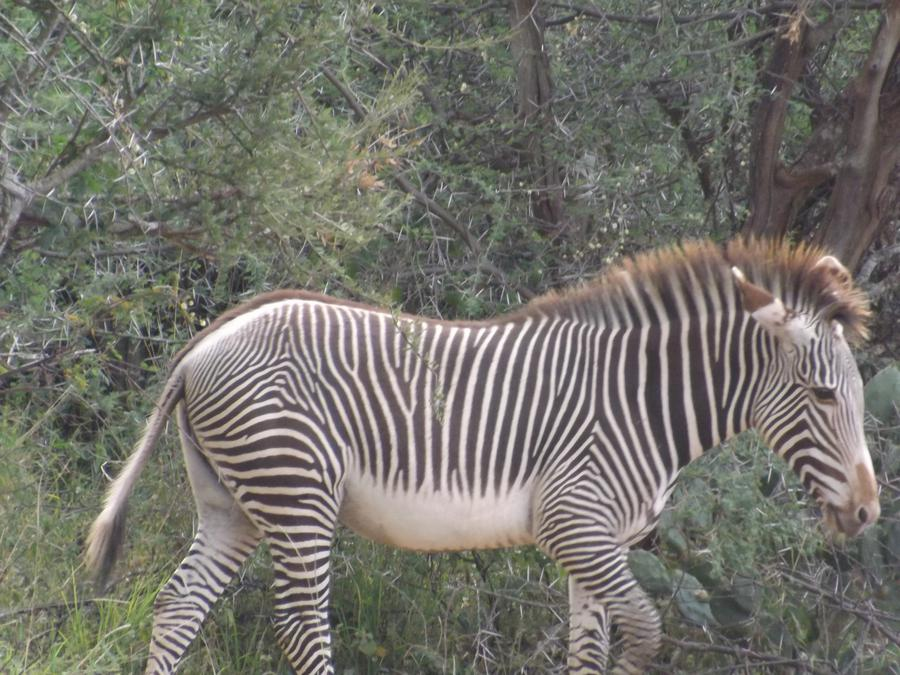zebra_grevys: (159, 256, 640, 547)
